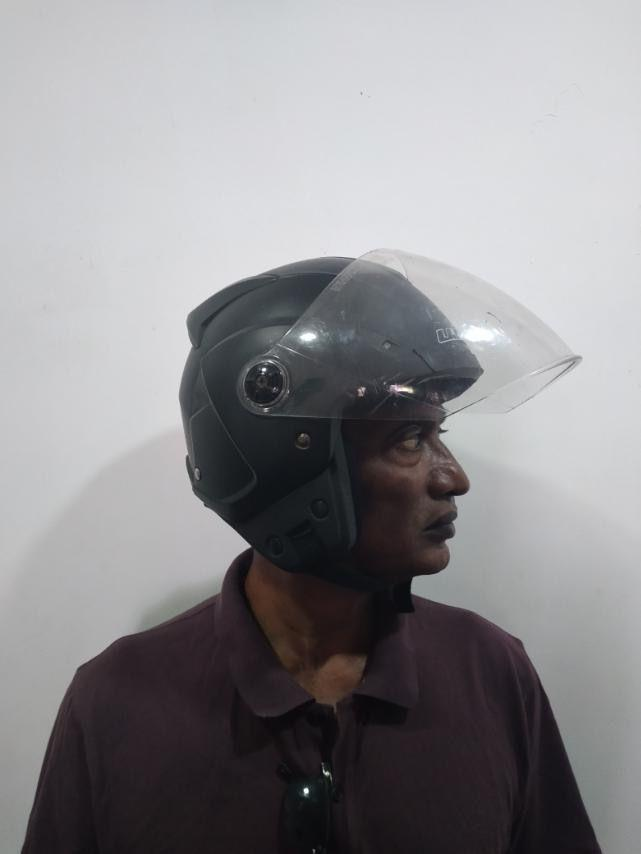helmet: (177, 245, 582, 586)
